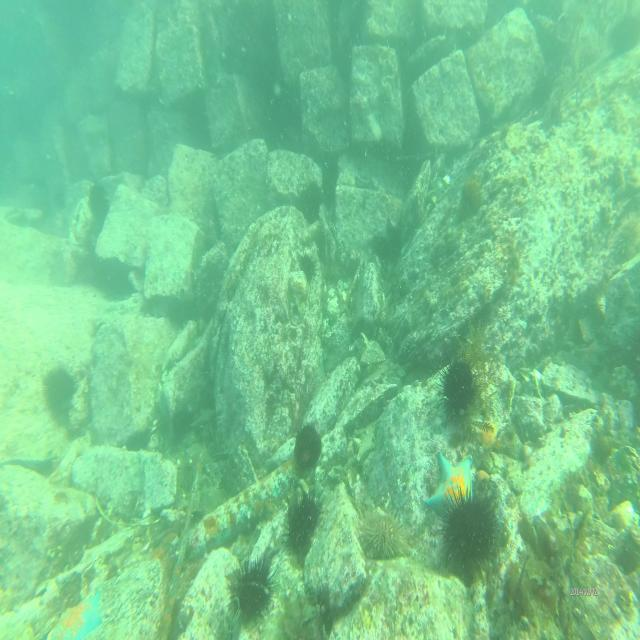echinus: (444, 484, 499, 573), (229, 557, 276, 622), (436, 357, 479, 417), (282, 493, 320, 555), (361, 507, 404, 558), (40, 364, 79, 414), (292, 421, 322, 473), (88, 182, 107, 218)
starfish: (424, 450, 478, 520), (51, 591, 102, 640)
